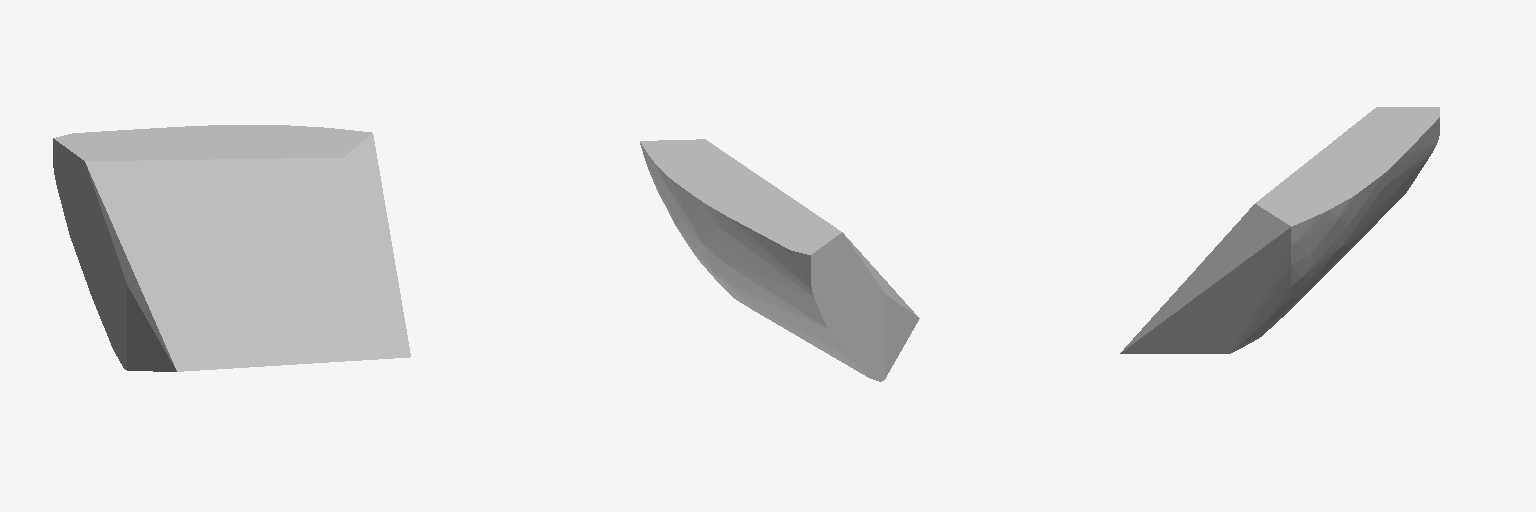
The model's file is phantom-elastrat_collision_575.obj.
3 views of the same model, side by side, from view 1: azimuth 30°, elevation 25°; view 2: azimuth 150°, elevation 25°; view 3: azimuth 270°, elevation 25° (orthographic).
Size of the model in its own units: 0.0074 by 0.0051 by 0.0084.